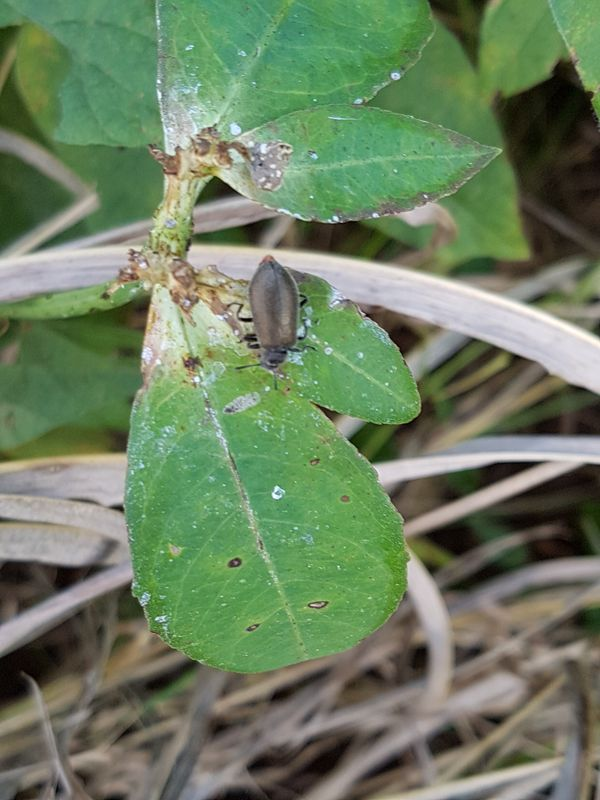Lagria_villosa: (215, 248, 332, 400)
